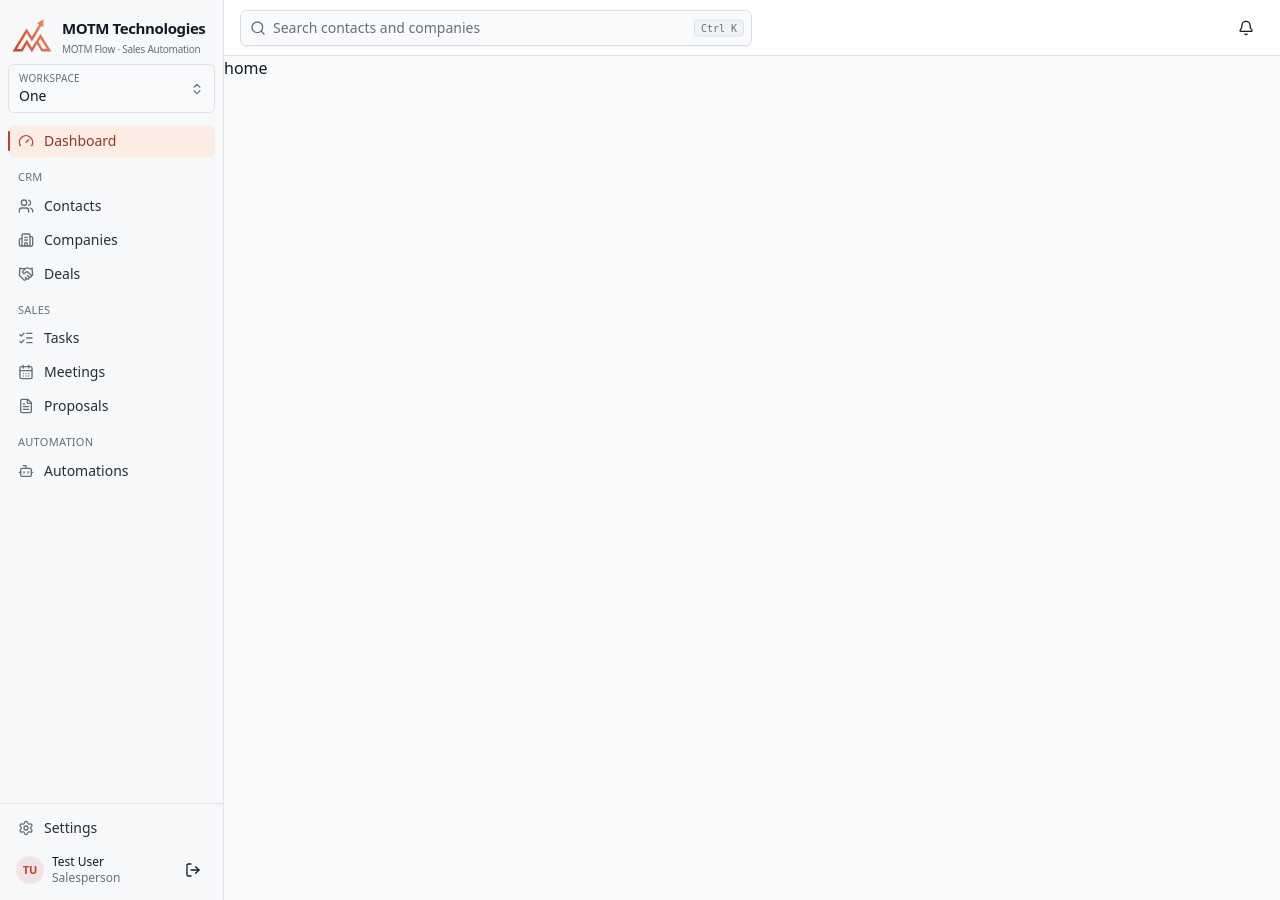
AppShell top search bar › shows a no-results message instead of nothing
This screenshot has width=1280, height=900.
Type "zzzznomatch" into the dropdown with placeholder "Search contacts and companies" at [496, 28], box [240, 10, 752, 46]
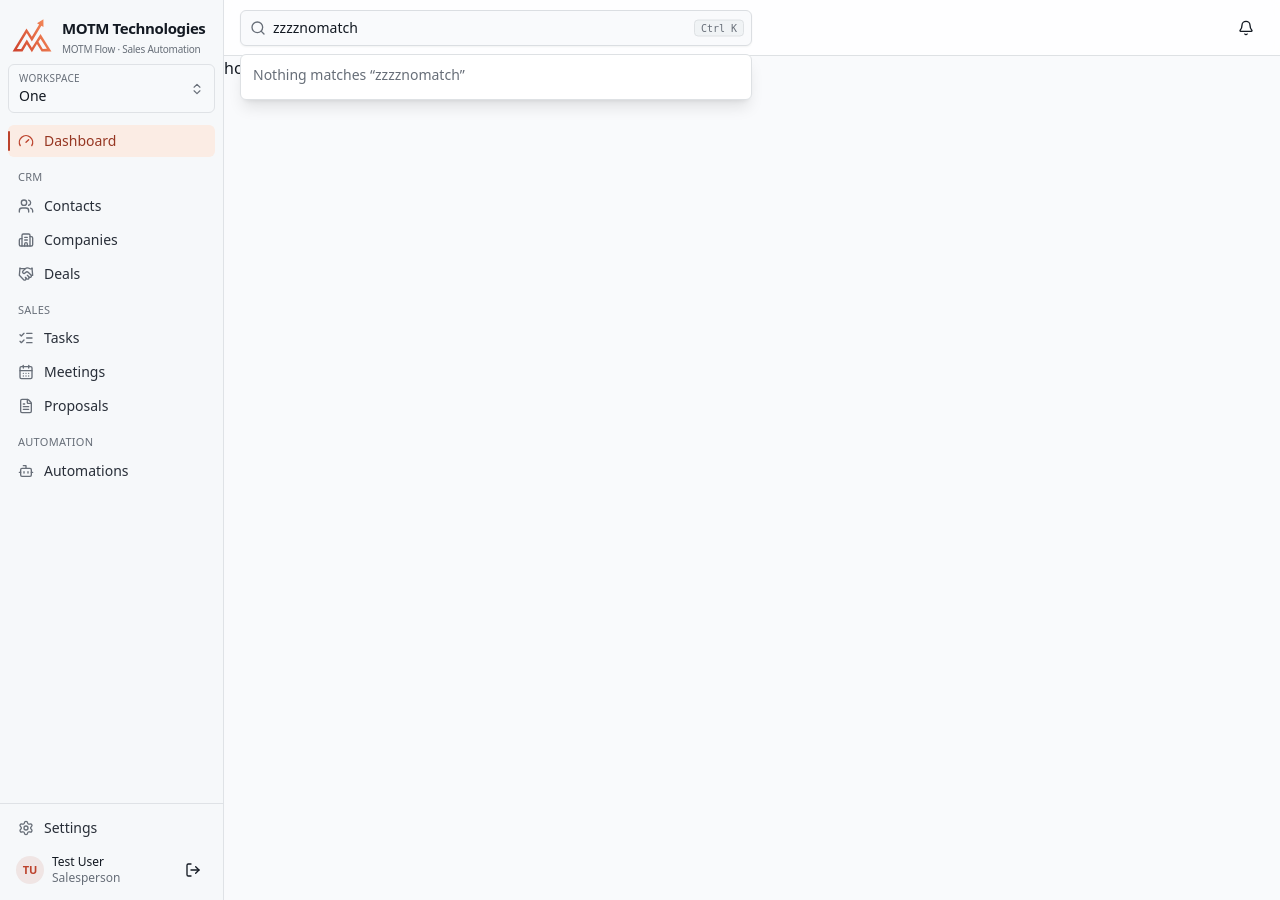
Expected: the text "Nothing matches “zzzznomatch”" is shown, [253, 64, 465, 84]
